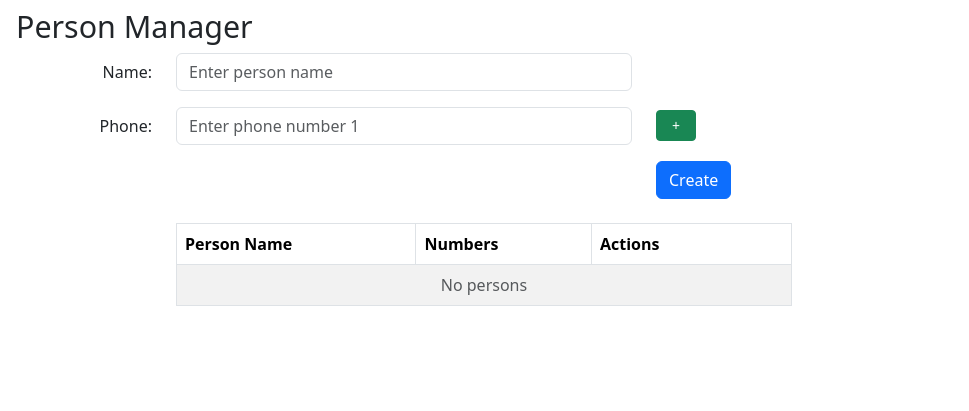
Scenario: PersonManager Component › adds a duplicated person
The width and height of the screenshot is (969, 411).
In the field labelled "Name:": (404, 72) [176,52,632,90], type "Ajay"
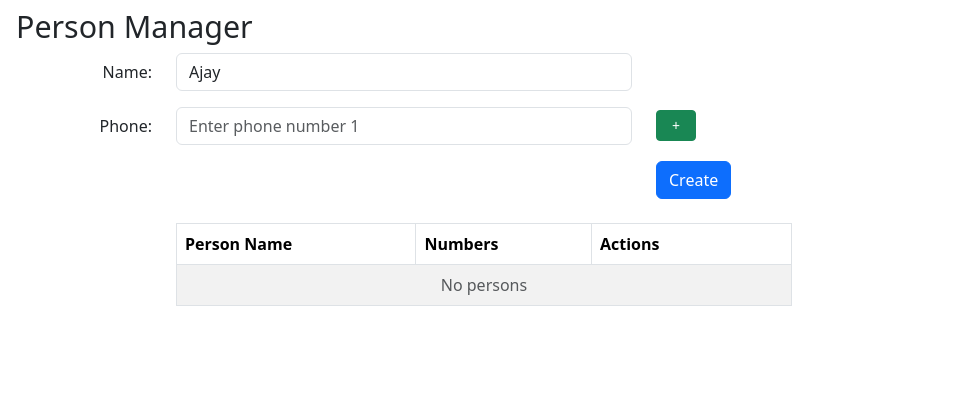
In the field labelled "Phone:": (404, 126) [176,106,632,144], type "111"
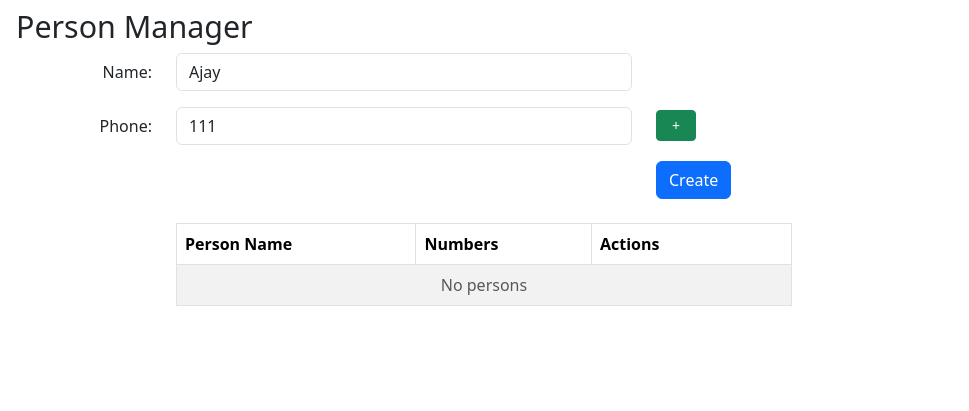
Click the button "Create": (694, 180) [656,160,731,198]
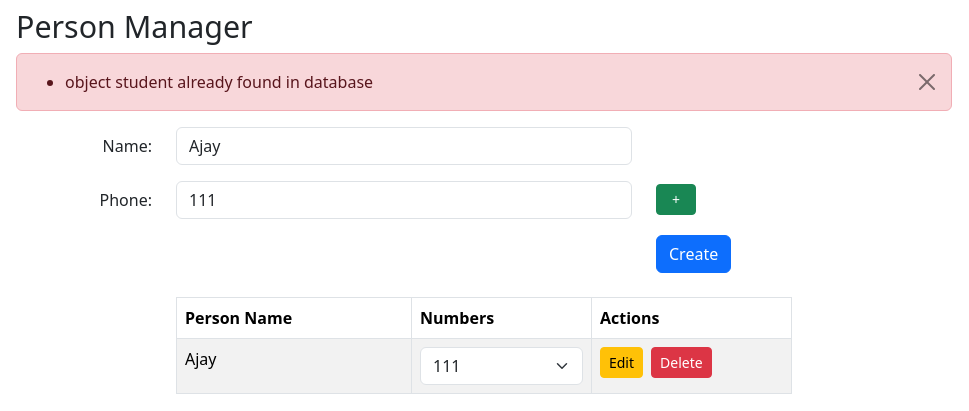
Expected: the message "object student already found in database" is shown, [16,52,952,110]
